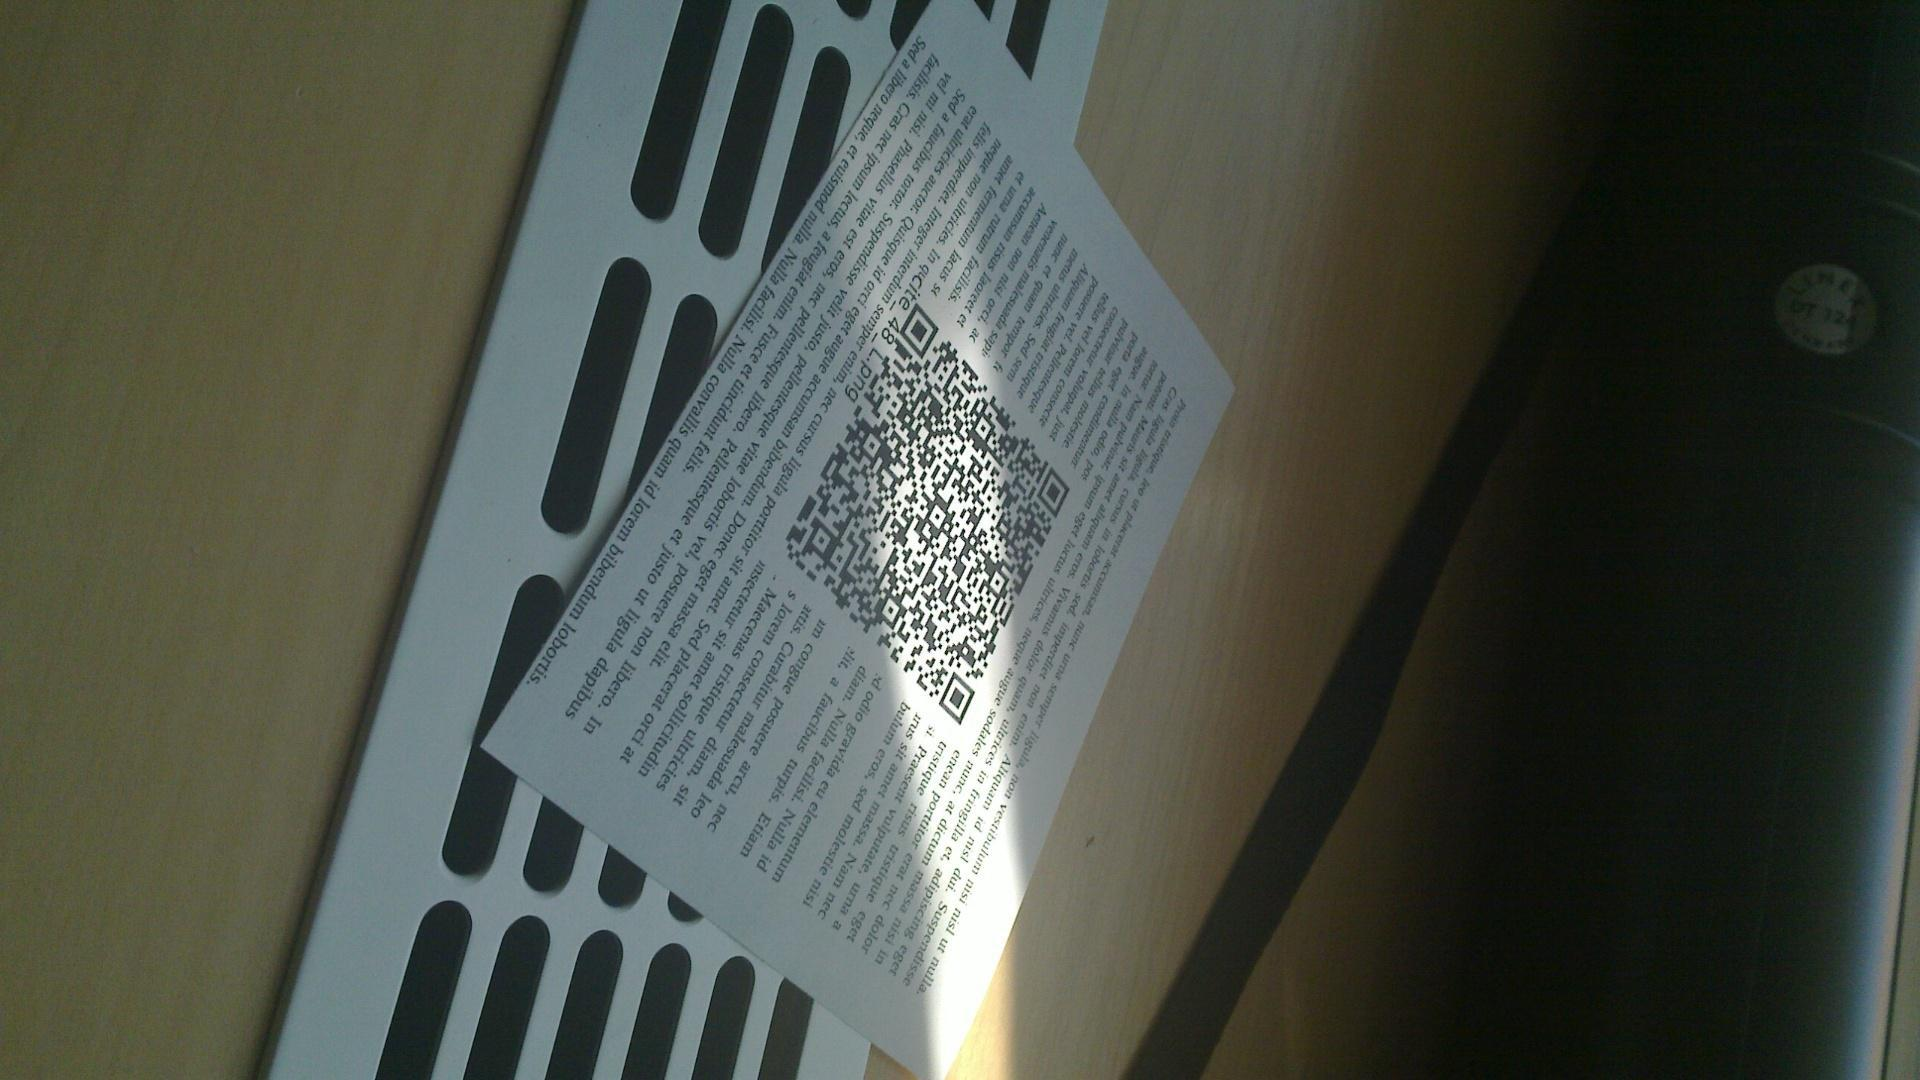Finder pattern: (901, 303, 943, 357), (936, 674, 975, 725), (1036, 465, 1069, 517)
